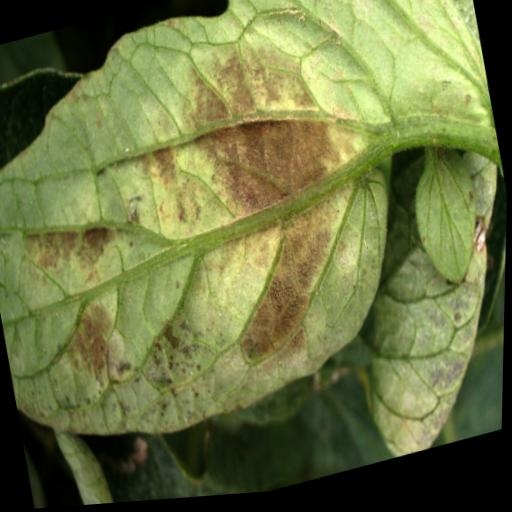Leaf Mold: (0, 0, 512, 473), (326, 175, 508, 471)
